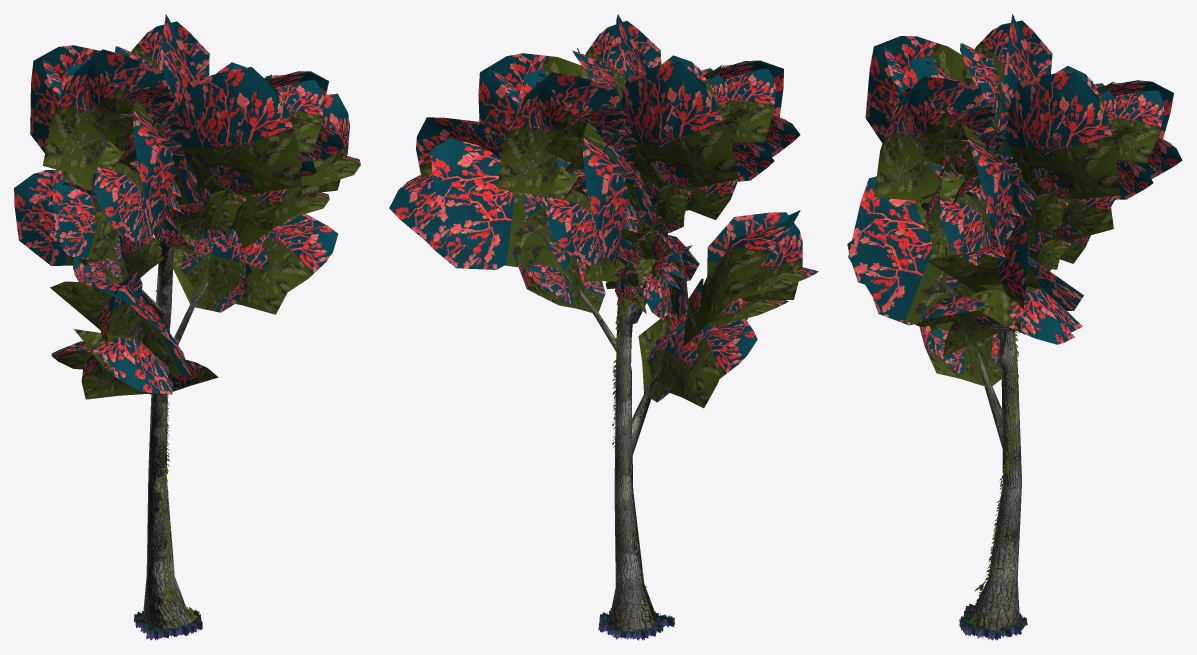
File: TreeTest01.obj
3 renders of one model, left to right at view 1: azimuth 30°, elevation 25°; view 2: azimuth 150°, elevation 25°; view 3: azimuth 270°, elevation 25°, orthographic.
Parts seen in each view (by area): view 1: Cylinder002; view 2: Cylinder002; view 3: Cylinder002.
Boxes of the visible parts, x1=… form: Cylinder002: x1=14, y1=14, x2=360, y2=640; Cylinder002: x1=389, y1=14, x2=818, y2=640; Cylinder002: x1=847, y1=14, x2=1182, y2=640.
Bounding box in the file's own units: 11.62 × 19.21 × 9.99.
Materials: 4 (4 with a texture image).
